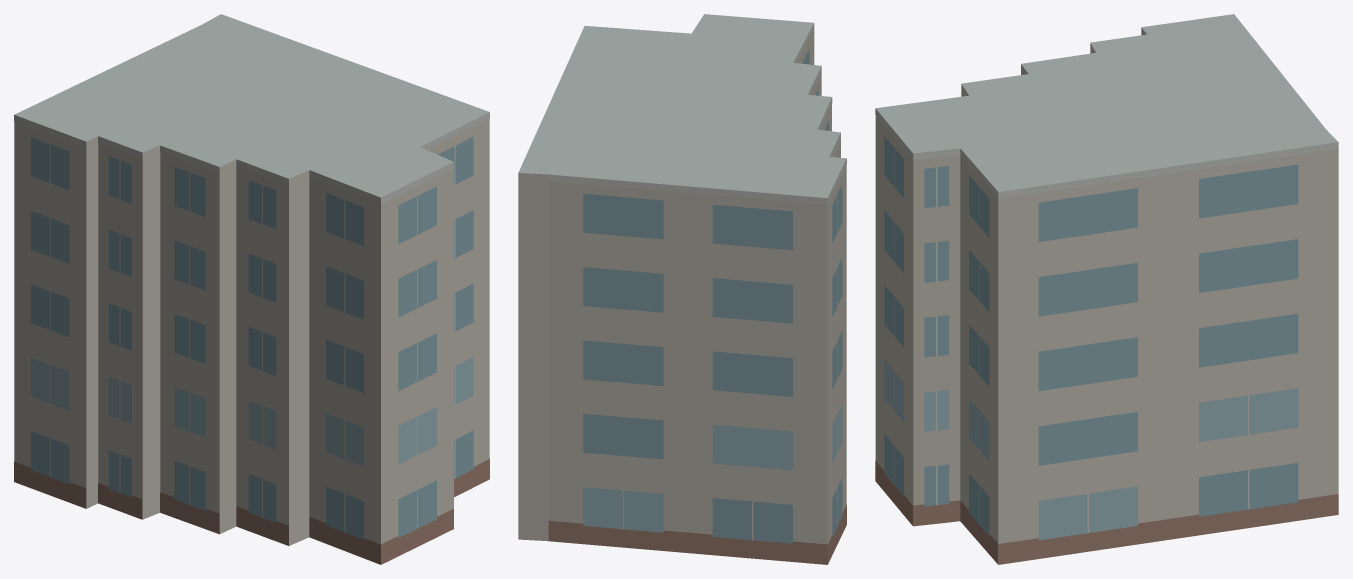
File: survey-upis-32713468.glb
3 views of the same model, side by side, from view 1: azimuth 30°, elevation 25°; view 2: azimuth 150°, elevation 25°; view 3: azimuth 270°, elevation 25° (orthographic).
Parts seen in each view (by area): view 1: survey-upis-32713468.tmp; view 2: survey-upis-32713468.tmp; view 3: survey-upis-32713468.tmp.
Boxes of the visible parts, x1,y1,x2,y2 form: survey-upis-32713468.tmp: [14, 14, 489, 564]; survey-upis-32713468.tmp: [518, 14, 846, 564]; survey-upis-32713468.tmp: [875, 14, 1338, 564].
Bounding box in the file's own units: 14.15 × 13.8 × 15.54.
